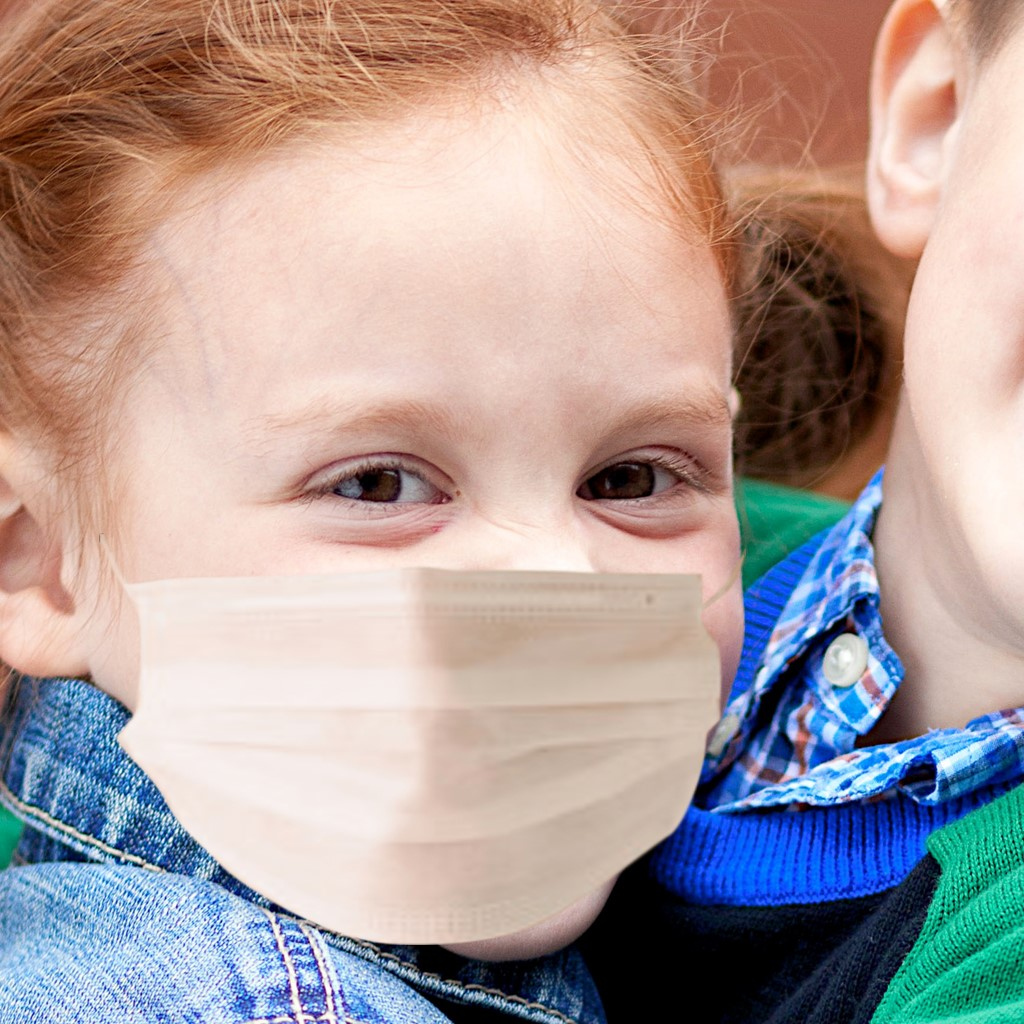con_mascara: (93, 58, 745, 960)
